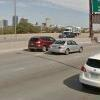Car: (20, 31, 84, 59)
